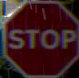Stop: (3, 0, 78, 77)
